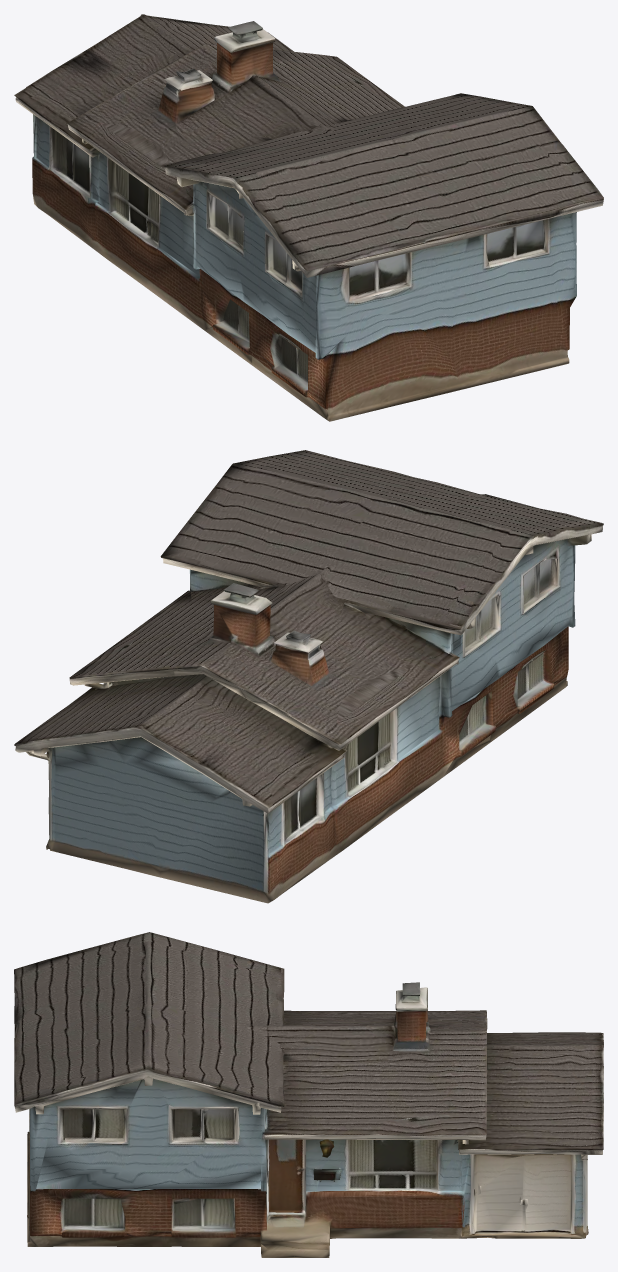
File: lod_house_split.glb
3 views of the same model, one above another, from view 1: azimuth 30°, elevation 25°; view 2: azimuth 150°, elevation 25°; view 3: azimuth 270°, elevation 25° (orthographic). The views are drawn at different scales.
Parts seen in each view (by area): view 1: tripo_node_6766f8a1-b48f-4fcf-8c85-2cd6b0d12997; view 2: tripo_node_6766f8a1-b48f-4fcf-8c85-2cd6b0d12997; view 3: tripo_node_6766f8a1-b48f-4fcf-8c85-2cd6b0d12997.
Boxes of the visible parts, x1,y1,x2,y2 form: tripo_node_6766f8a1-b48f-4fcf-8c85-2cd6b0d12997: [14, 14, 603, 421]; tripo_node_6766f8a1-b48f-4fcf-8c85-2cd6b0d12997: [14, 450, 603, 903]; tripo_node_6766f8a1-b48f-4fcf-8c85-2cd6b0d12997: [14, 932, 603, 1257].
Size of the model in its own units: 0.5482 by 0.3868 by 0.9996.
1 material, 1 textured.
